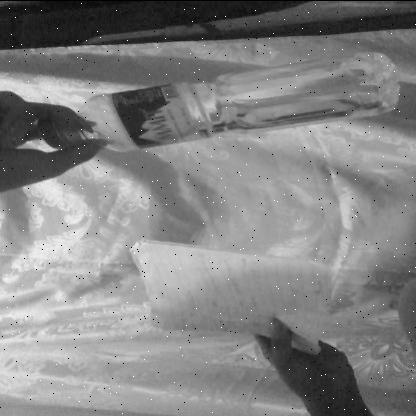Plastic Bottle: (31, 40, 404, 177)
